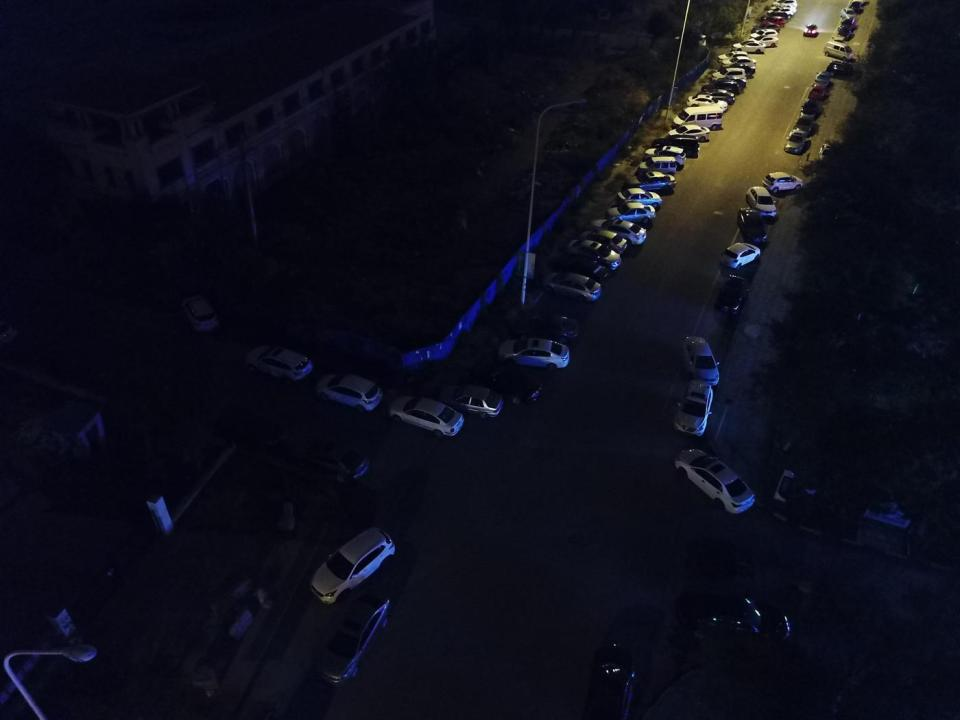car: (675, 582, 798, 652), (314, 594, 394, 684), (310, 525, 401, 600), (671, 446, 755, 514), (579, 644, 638, 720), (299, 435, 376, 484), (214, 404, 286, 454), (386, 393, 464, 438), (242, 338, 313, 385), (442, 378, 506, 422), (313, 373, 384, 411), (674, 377, 718, 438), (494, 338, 571, 372), (481, 366, 543, 407), (516, 315, 581, 350), (681, 335, 722, 390), (180, 290, 220, 338), (541, 270, 601, 301), (567, 239, 620, 272), (592, 217, 648, 246), (716, 270, 749, 318), (564, 254, 611, 286), (734, 206, 770, 247), (623, 170, 675, 194), (714, 242, 761, 268), (580, 230, 627, 252), (653, 137, 700, 159), (745, 187, 778, 218), (762, 170, 805, 193), (607, 204, 656, 224), (615, 189, 661, 210), (644, 145, 686, 168), (685, 96, 729, 115), (668, 125, 711, 144), (710, 66, 748, 84), (696, 88, 736, 105), (700, 80, 740, 96), (814, 142, 838, 167), (785, 128, 807, 155), (796, 97, 822, 118), (732, 39, 766, 55), (674, 34, 706, 50), (717, 52, 751, 67), (716, 76, 747, 92), (719, 64, 756, 77), (827, 58, 853, 76), (806, 80, 826, 102), (793, 115, 813, 135), (723, 57, 757, 68), (754, 23, 782, 36), (768, 7, 796, 20), (769, 5, 796, 18), (761, 16, 786, 30), (750, 36, 779, 48), (752, 30, 781, 42), (814, 70, 832, 86), (762, 12, 788, 23), (839, 6, 858, 21), (772, 0, 798, 10), (802, 22, 818, 38), (849, 1, 865, 14), (830, 34, 847, 46), (837, 25, 852, 38), (841, 18, 856, 29)
van: (673, 105, 723, 134), (638, 156, 677, 176), (823, 42, 854, 60)
